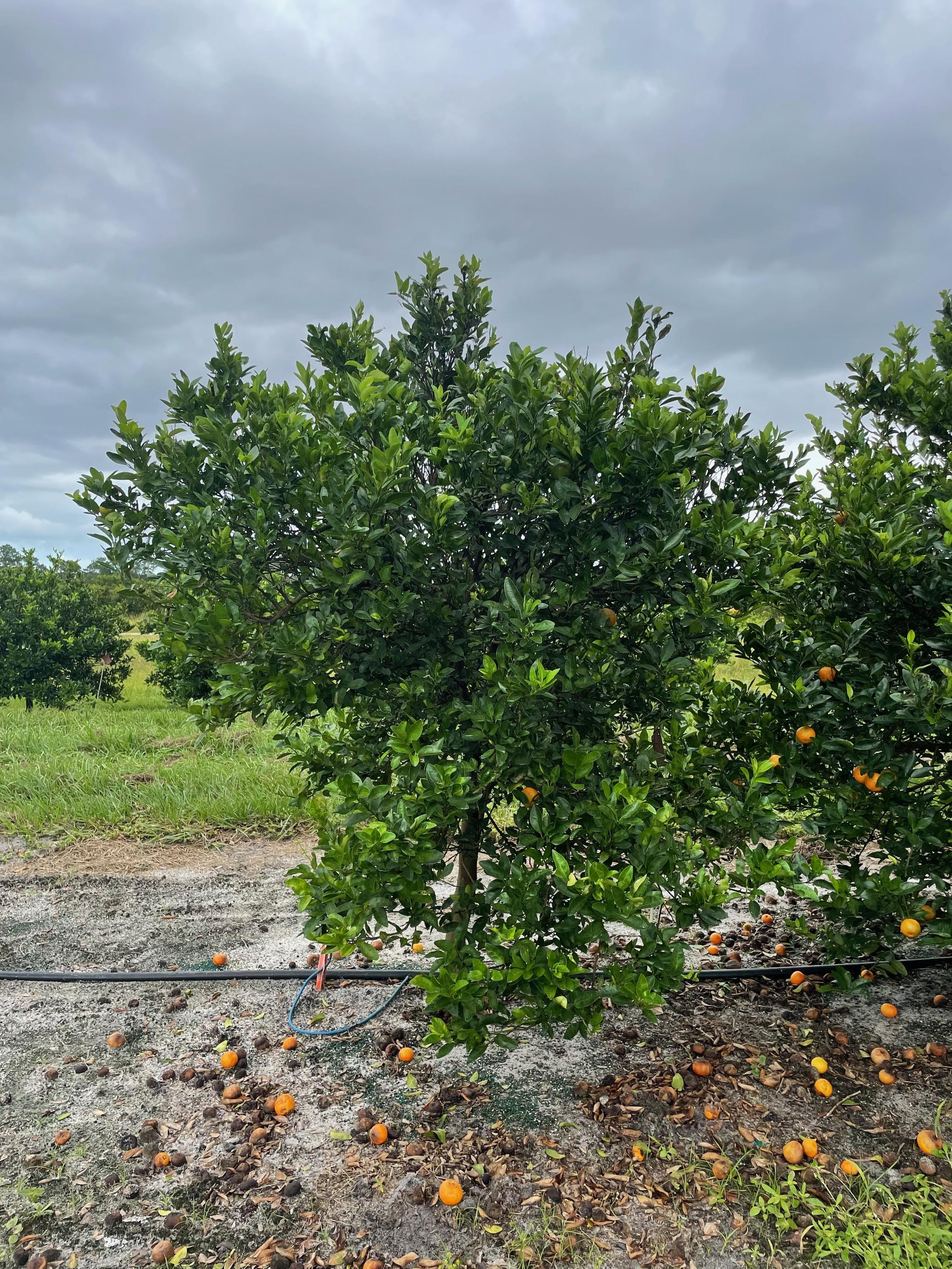fruit_on_ground: (592, 605, 620, 631), (549, 458, 576, 483), (914, 900, 940, 925), (517, 784, 543, 809), (851, 762, 876, 786), (863, 770, 888, 794), (899, 916, 923, 940), (831, 505, 855, 528), (794, 723, 818, 746), (816, 663, 839, 685), (766, 752, 786, 771), (727, 602, 746, 620), (97, 500, 116, 518)
fruit_on_tree: (436, 1177, 465, 1208), (915, 1127, 945, 1155), (151, 1239, 177, 1264), (366, 1121, 390, 1146), (274, 1092, 296, 1116), (782, 1140, 804, 1164), (710, 1158, 732, 1180), (813, 1077, 835, 1098), (800, 1137, 820, 1160), (656, 1085, 680, 1104), (247, 1126, 268, 1147), (217, 1050, 239, 1070), (221, 1081, 244, 1100), (105, 1029, 128, 1048), (691, 1058, 714, 1077), (871, 1046, 893, 1065), (405, 1139, 427, 1157), (810, 1056, 830, 1075), (152, 1149, 172, 1168), (397, 1044, 416, 1064), (839, 1158, 860, 1176), (52, 1127, 72, 1145), (929, 1041, 950, 1058), (879, 1001, 898, 1019), (281, 1034, 300, 1051), (833, 1030, 851, 1047), (702, 1103, 720, 1120), (261, 1098, 278, 1115), (304, 951, 322, 967), (878, 1068, 896, 1084), (931, 991, 949, 1007), (211, 950, 229, 966), (690, 1040, 709, 1055), (789, 970, 806, 986), (804, 1005, 820, 1021), (170, 1152, 187, 1167), (727, 949, 743, 964), (859, 968, 876, 982), (141, 1117, 159, 1130), (179, 1066, 194, 1081), (759, 911, 775, 925), (233, 1045, 248, 1059), (411, 940, 425, 955), (774, 941, 788, 956), (330, 947, 345, 960), (369, 937, 384, 950), (709, 932, 724, 945), (706, 944, 720, 956), (740, 921, 754, 933)
